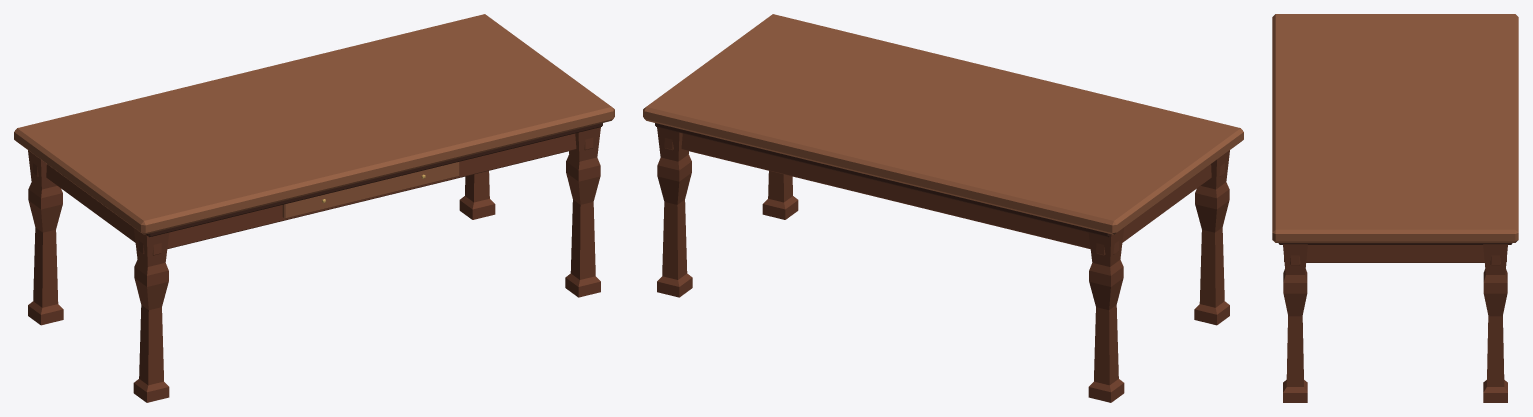
File: table_05.glb
3 renders of one model, left to right at view 1: azimuth 30°, elevation 25°; view 2: azimuth 150°, elevation 25°; view 3: azimuth 270°, elevation 25°, orthographic. The views are drawn at different scales.
Visible parts, largest first — view 1: Top, Aprons, Leg_0_0, Leg_1_0, Leg_0_1, FrontDrawer, TopUndercut, Leg_1_1; view 2: Top, Aprons, Leg_0_1, Leg_1_1, Leg_0_0, TopUndercut, Leg_1_0; view 3: Top, Aprons, Leg_1_0, Leg_1_1, TopUndercut.
Part boxes in pixels (x1=…): Top: x1=14, y1=14, x2=614, y2=234; Aprons: x1=33, y1=133, x2=593, y2=255; Leg_0_0: x1=133, y1=228, x2=169, y2=402; Leg_1_0: x1=565, y1=127, x2=600, y2=297; Leg_0_1: x1=28, y1=150, x2=63, y2=325; FrontDrawer: x1=282, y1=162, x2=459, y2=218; TopUndercut: x1=146, y1=123, x2=602, y2=237; Leg_1_1: x1=459, y1=171, x2=495, y2=219; Top: x1=643, y1=14, x2=1243, y2=234; Aprons: x1=664, y1=133, x2=1224, y2=255; Leg_0_1: x1=1088, y1=228, x2=1124, y2=402; Leg_1_1: x1=657, y1=127, x2=692, y2=297; Leg_0_0: x1=1194, y1=150, x2=1229, y2=325; TopUndercut: x1=655, y1=123, x2=1111, y2=237; Leg_1_0: x1=762, y1=171, x2=798, y2=219; Top: x1=1272, y1=14, x2=1518, y2=242; Aprons: x1=1284, y1=245, x2=1506, y2=265; Leg_1_0: x1=1283, y1=244, x2=1307, y2=402; Leg_1_1: x1=1483, y1=244, x2=1507, y2=402; TopUndercut: x1=1278, y1=243, x2=1512, y2=244.
Size of the model in its own units: 2.1 by 0.79 by 1.
